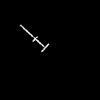double_crochet: (20, 25, 48, 50)
